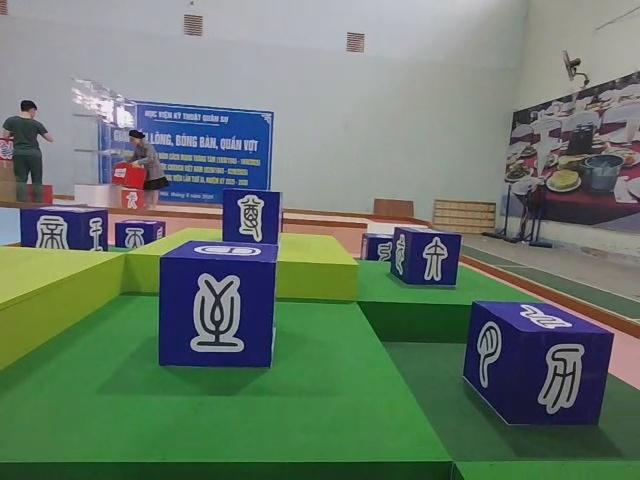R2 Fake Blue: (464, 301, 611, 427), (159, 241, 277, 369), (391, 227, 463, 289), (20, 207, 108, 253), (222, 188, 282, 248), (115, 220, 165, 248), (360, 233, 395, 262)
